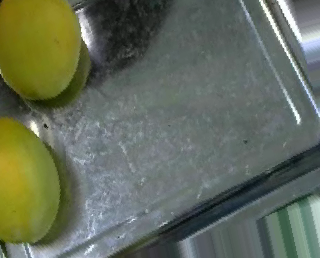Mango: (0, 0, 81, 97), (0, 115, 61, 242)
